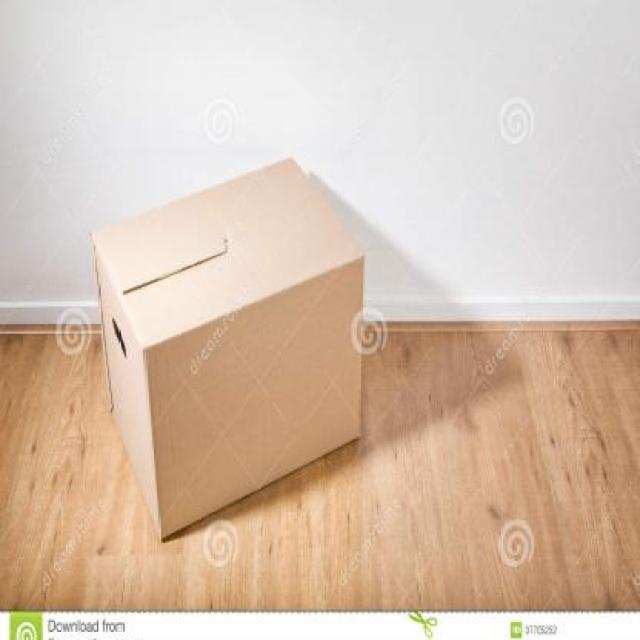box: (81, 151, 384, 551)
